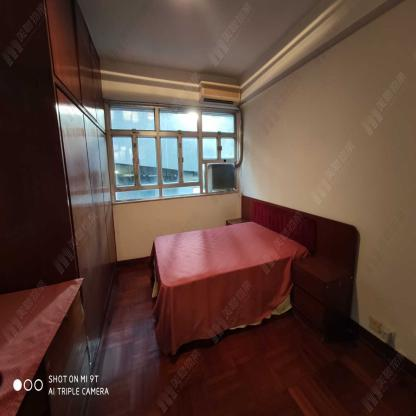AC: (198, 80, 240, 107)
Bed: (150, 221, 312, 352)
